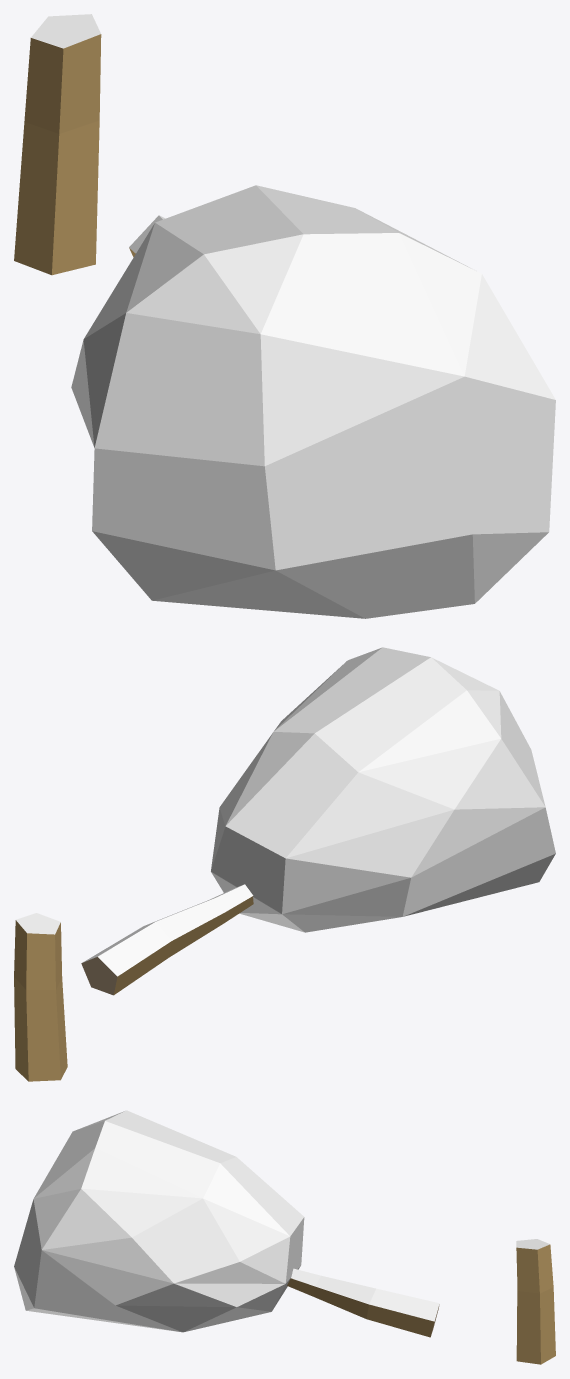
Rendered from Simple_Tree_crk_m_Snow_BT_01.fbx.
3 renders of one model, top to bottom at view 1: azimuth 30°, elevation 25°; view 2: azimuth 150°, elevation 25°; view 3: azimuth 270°, elevation 25°, orthographic. The views are drawn at different scales.
Parts seen in each view (by area): view 1: Simple_Tree_crk_m_Snow_BT_01; view 2: Simple_Tree_crk_m_Snow_BT_01; view 3: Simple_Tree_crk_m_Snow_BT_01.
Boxes of the visible parts, box(x1,y1,x2,y2) form: Simple_Tree_crk_m_Snow_BT_01: box(14, 14, 555, 618); Simple_Tree_crk_m_Snow_BT_01: box(14, 647, 555, 1081); Simple_Tree_crk_m_Snow_BT_01: box(14, 1110, 555, 1364).
Size of the model in its own units: 354 by 291 by 750.
